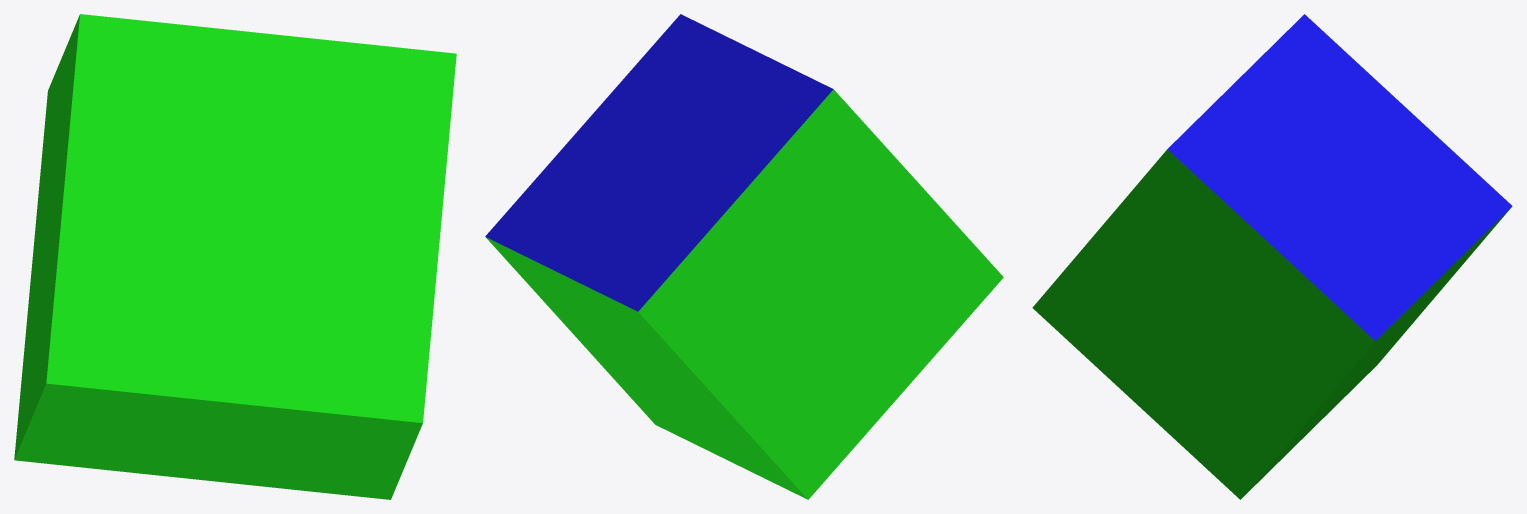
3 views of the same model, side by side, from view 1: azimuth 30°, elevation 25°; view 2: azimuth 150°, elevation 25°; view 3: azimuth 270°, elevation 25° (orthographic). The views are drawn at different scales.
Visible parts, largest first — view 1: Cube; view 2: Cube; view 3: Cube.
Part boxes in pixels (x1,y1,x2,y2): Cube: (14, 14, 456, 499); Cube: (485, 14, 1003, 499); Cube: (1032, 14, 1512, 499).
Bounding box in the file's own units: 3.14 × 3.39 × 3.02.
